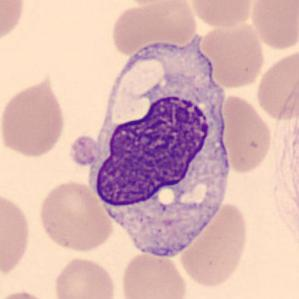Monocyte: (84, 37, 238, 265)
Platelets: (68, 133, 102, 168)
RBC: (177, 201, 250, 288), (0, 71, 69, 160), (36, 179, 115, 254), (108, 0, 198, 56), (198, 19, 266, 90), (218, 92, 274, 175), (118, 250, 188, 299), (254, 49, 298, 122), (51, 254, 118, 299), (0, 189, 33, 280), (248, 0, 299, 52), (186, 0, 256, 29), (0, 0, 27, 48), (0, 288, 56, 299), (116, 0, 190, 7)
